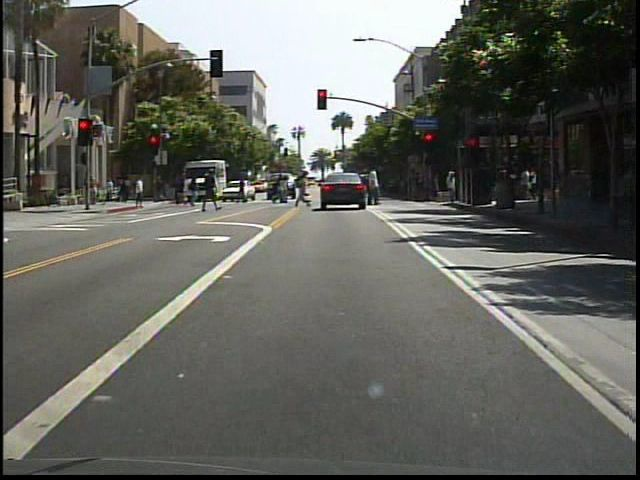person: (362, 163, 385, 211), (203, 168, 224, 217), (296, 173, 315, 212), (132, 175, 149, 212), (186, 174, 202, 210)
